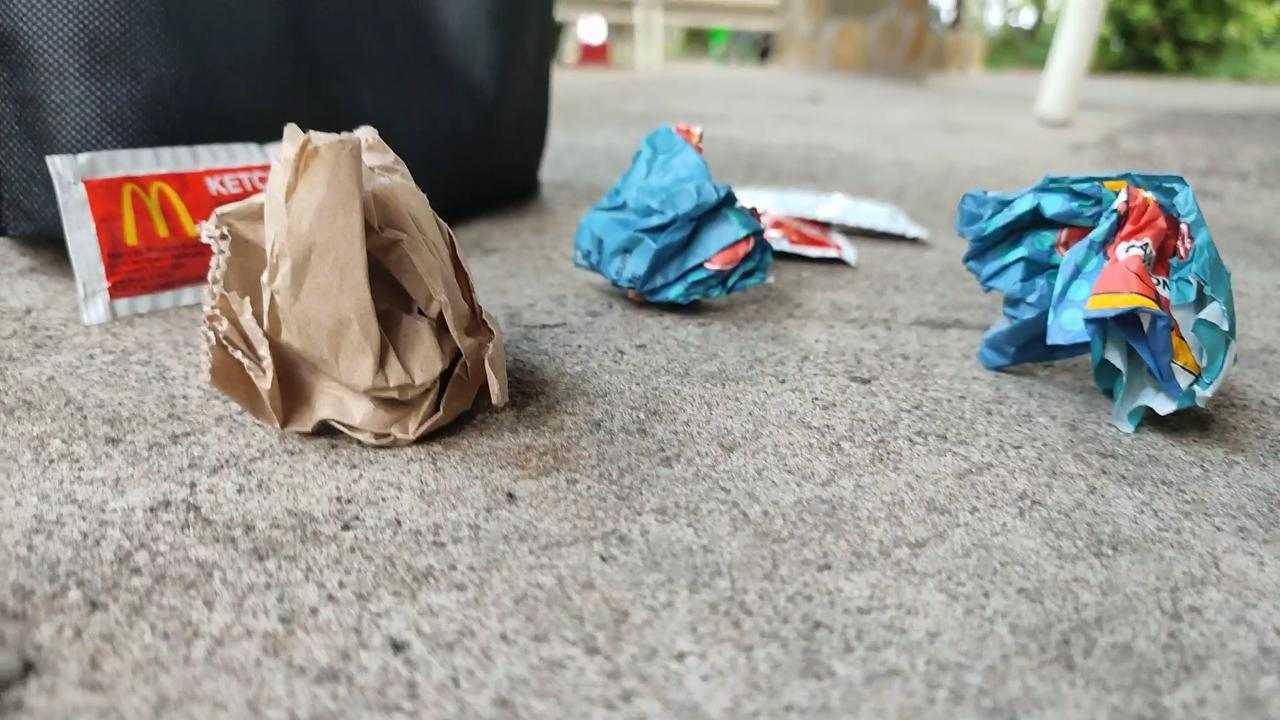Paper: (212, 105, 521, 448), (955, 166, 1262, 440), (554, 124, 785, 318)
